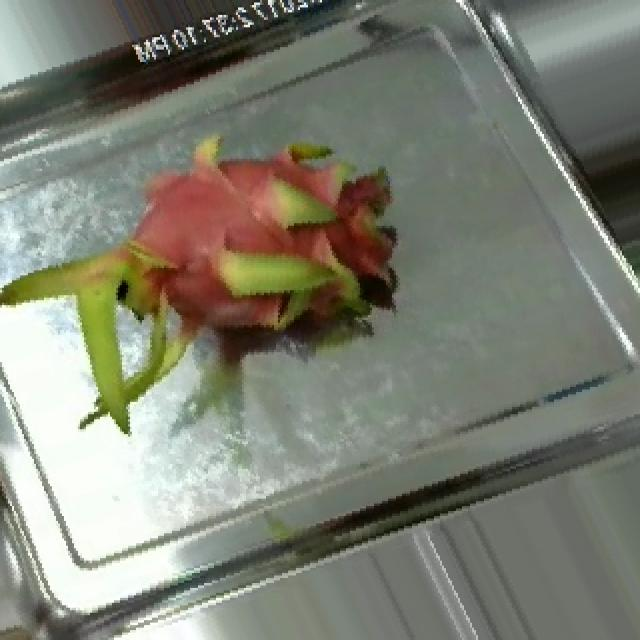fruit: (8, 62, 446, 484)
